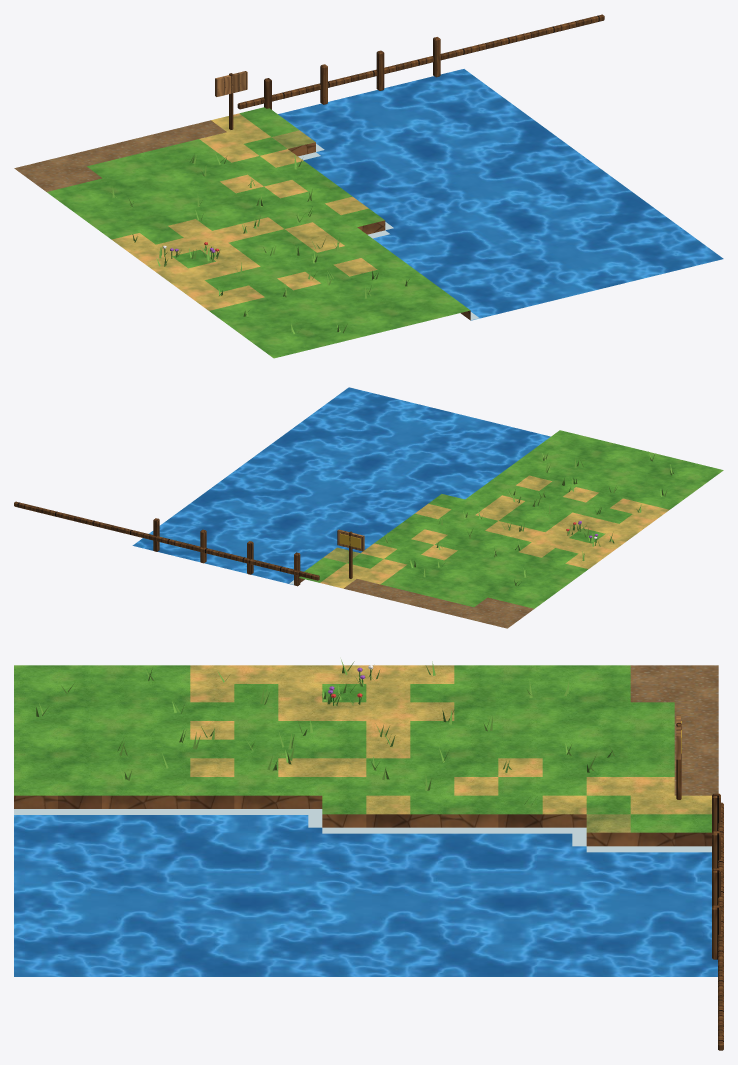
File: chunk_3_12.glb
3 views of the same model, one above another, from view 1: azimuth 30°, elevation 25°; view 2: azimuth 150°, elevation 25°; view 3: azimuth 270°, elevation 25° (orthographic). The views are drawn at different scales.
Visible parts, largest first — view 1: chunk_3_12; view 2: chunk_3_12; view 3: chunk_3_12.
Part boxes in pixels (left/top/right/bottom): chunk_3_12: left=14, top=14, right=723, bottom=358; chunk_3_12: left=14, top=387, right=723, bottom=628; chunk_3_12: left=14, top=659, right=723, bottom=1050.
Bounding box in the file's own units: 21 × 2.25 × 16.12.
Materials: 16 (10 with a texture image).
